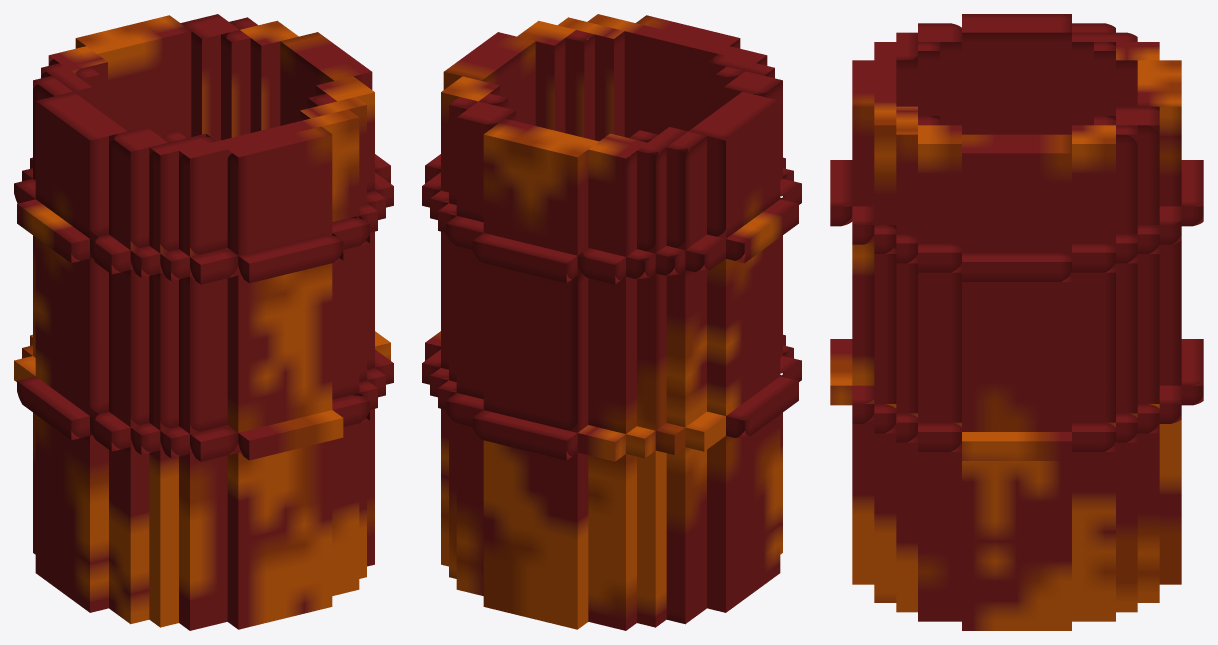
Rendered from beczka_rdza.dae.
3 renders of one model, left to right at view 1: azimuth 30°, elevation 25°; view 2: azimuth 150°, elevation 25°; view 3: azimuth 270°, elevation 25°, orthographic.
Visible parts, largest first — view 1: Content; view 2: Content; view 3: Content.
Part boxes in pixels (x1=…): Content: x1=14, y1=14, x2=393, y2=630; Content: x1=422, y1=14, x2=801, y2=630; Content: x1=830, y1=14, x2=1203, y2=630.
Bounding box in the file's own units: 17 × 24 × 17.
Materials: 1 (1 with a texture image).
